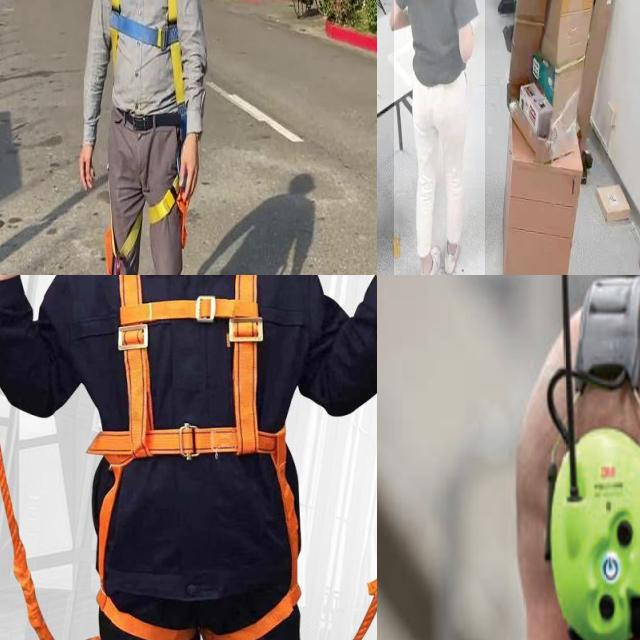Ear-protection: (509, 282, 640, 640)
Harness: (90, 275, 297, 640), (111, 0, 185, 114), (104, 187, 188, 275)
person: (394, 0, 485, 275)
shoes: (439, 227, 462, 275), (418, 241, 442, 275)
